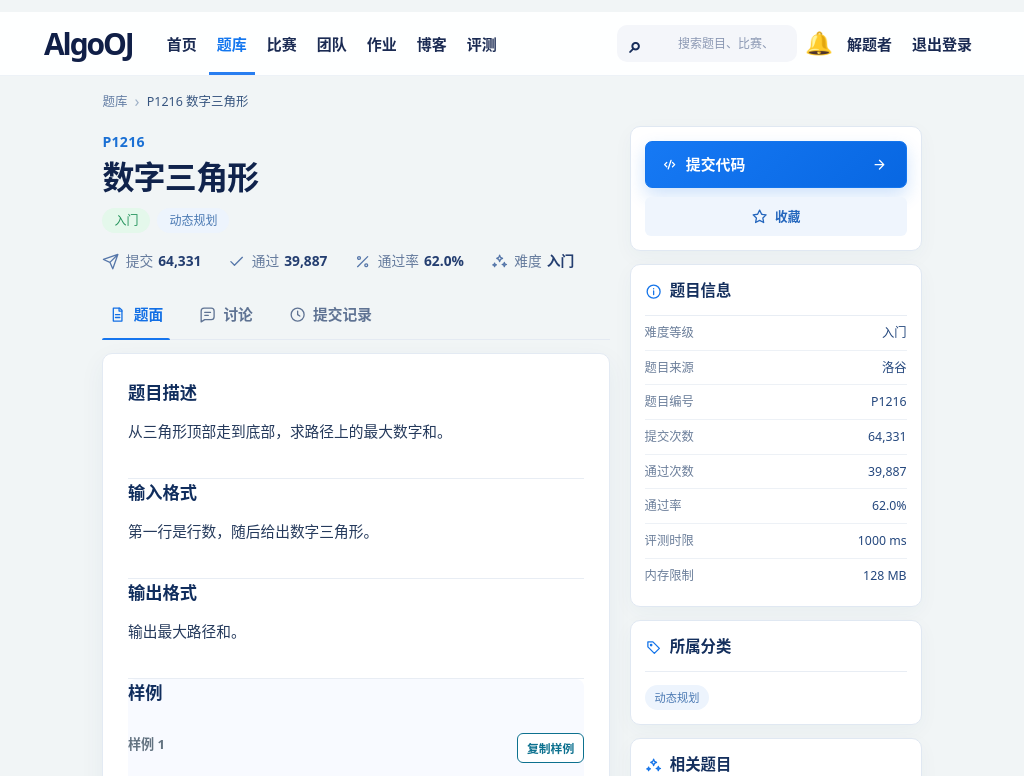
problem detail reference UI › loads matching real discussion content inside the secondary tab
Expected: the heading "数字三角形" is shown, [102,155,258,198]
Click the button "讨论": point(226, 315) [192,290,260,339]
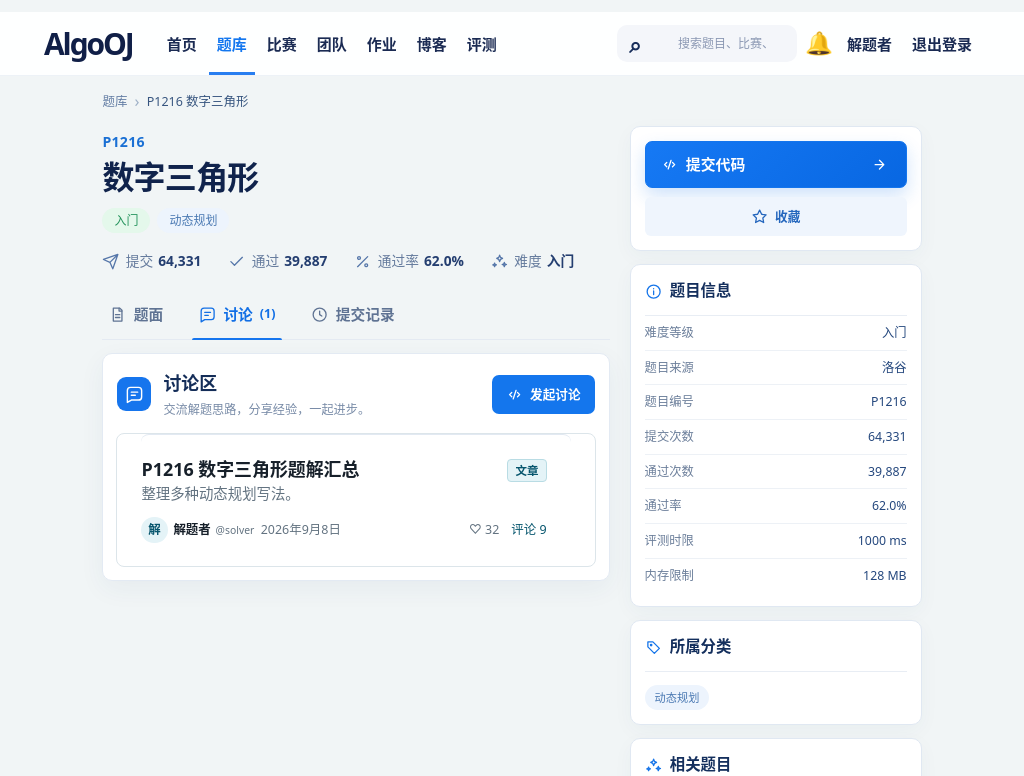
Expected: the heading "P1216 数字三角形题解汇总" is shown, [141,457,359,481]
Expected: the text "从三角形顶部走到底部，求路径上的最大数字和。" is gone
